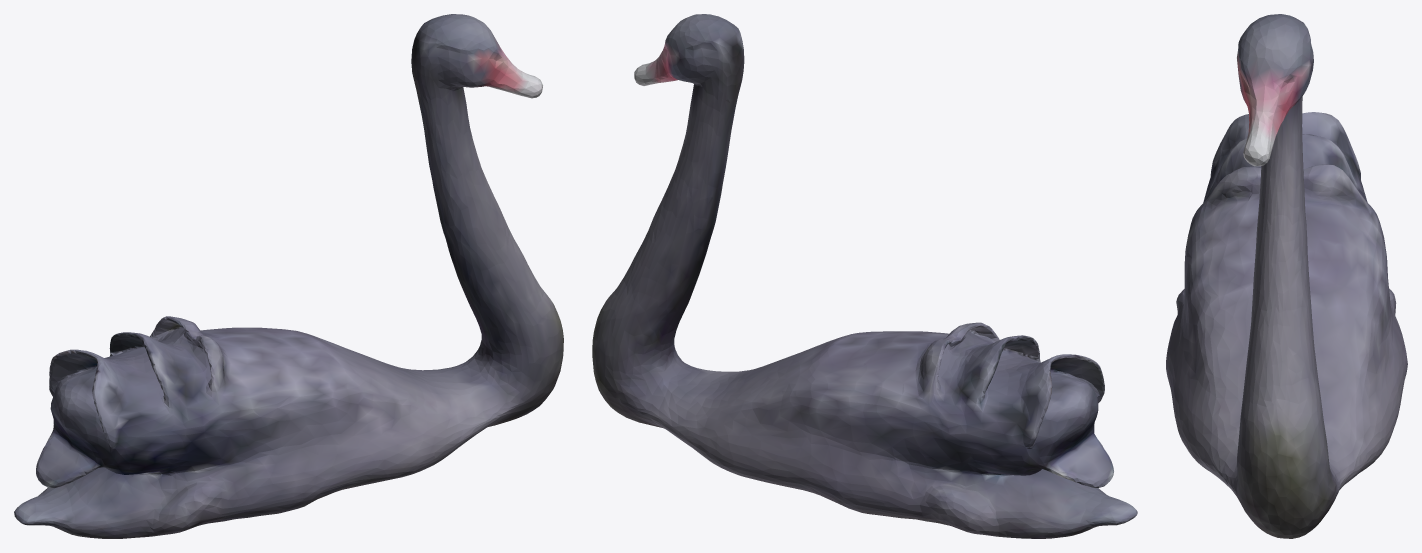
Rendered from blackswan.glb.
The picture shows the model from 3 angles, left to right: view 1: azimuth 30°, elevation 25°; view 2: azimuth 150°, elevation 25°; view 3: azimuth 270°, elevation 25°; orthographic projection. The views are drawn at different scales.
Parts seen in each view (by area): view 1: world; view 2: world; view 3: world.
Boxes of the visible parts, left/top/right/bottom form: world: left=14, top=14, right=563, bottom=538; world: left=592, top=14, right=1137, bottom=538; world: left=1166, top=14, right=1407, bottom=538.
Bounding box in the file's own units: 0.9978 × 0.7454 × 0.335.
